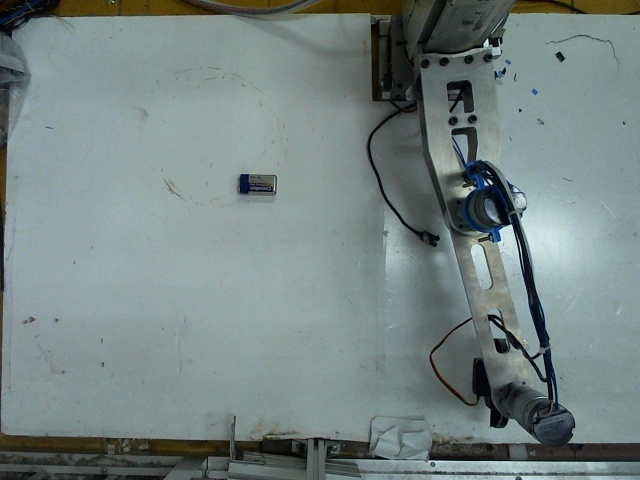battery: (235, 168, 277, 196)
